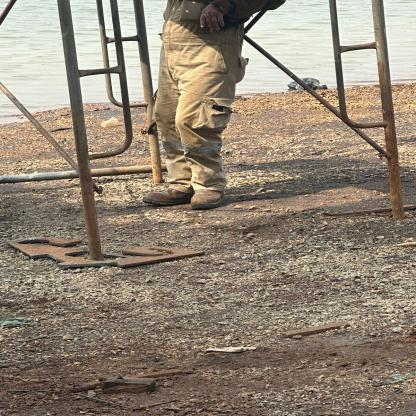bota: (145, 180, 189, 207), (189, 183, 226, 211)
